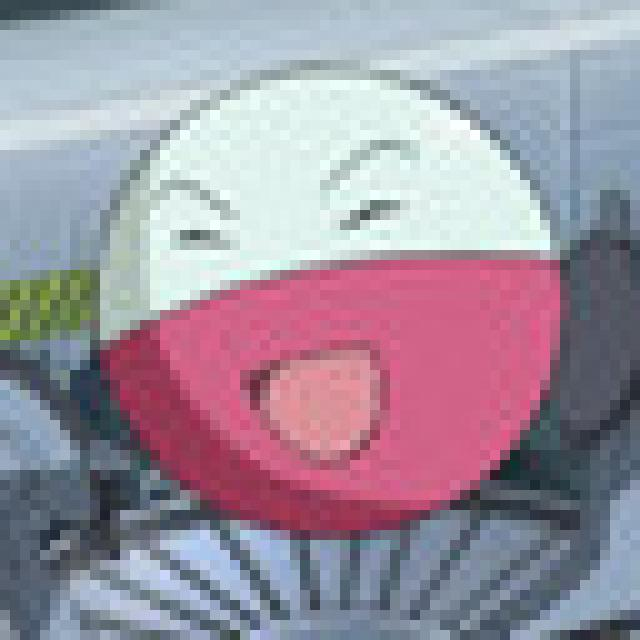Electrode: (93, 53, 554, 534)
